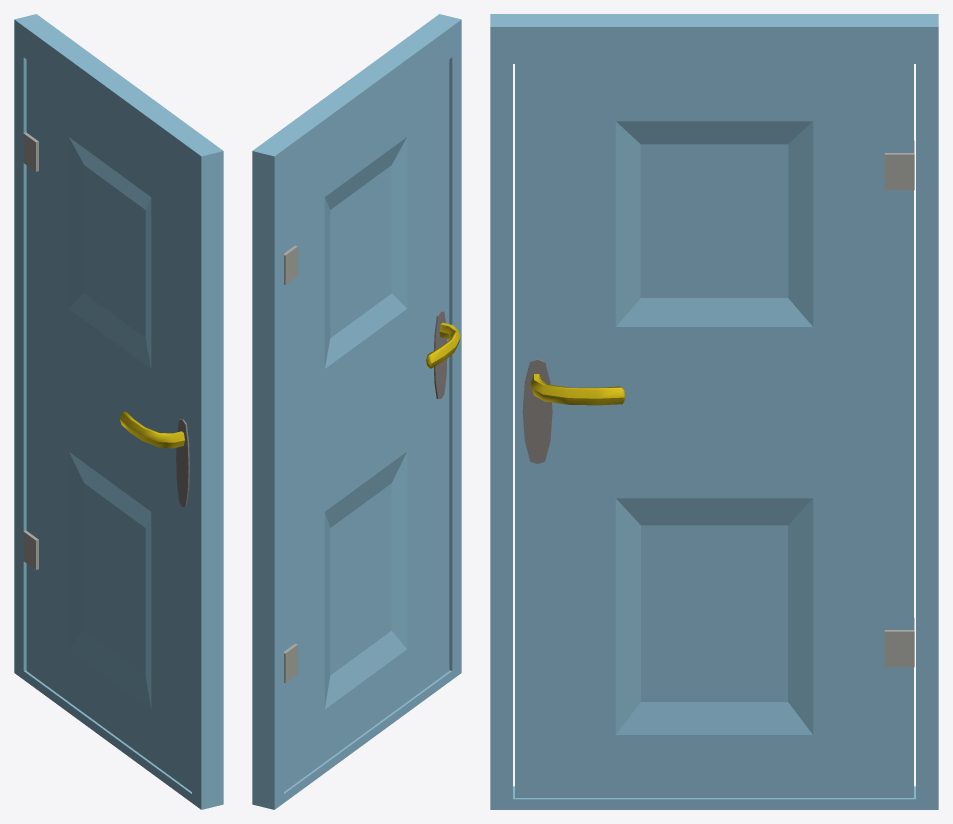
Rendered from Door.fbx.
The picture shows the model from 3 angles, left to right: view 1: azimuth 30°, elevation 25°; view 2: azimuth 150°, elevation 25°; view 3: azimuth 270°, elevation 25°; orthographic projection. The views are drawn at different scales.
Visible parts, largest first — view 1: Door.003, Door.AppliedTransform; view 2: Door.003, Door.AppliedTransform; view 3: Door.003, Door.AppliedTransform.
Boxes of the visible parts, x1,y1,x2,y2 form: Door.003: (23, 60, 191, 791); Door.AppliedTransform: (14, 14, 223, 809); Door.003: (284, 60, 460, 791); Door.AppliedTransform: (252, 14, 461, 809); Door.003: (515, 64, 914, 797); Door.AppliedTransform: (490, 14, 938, 809).
Size of the model in its own units: 119 by 948 by 492.
